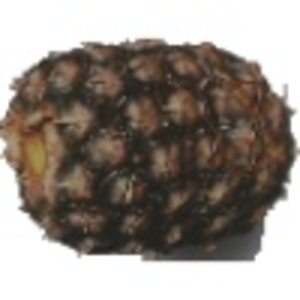abacaxi: (1, 34, 294, 252)
